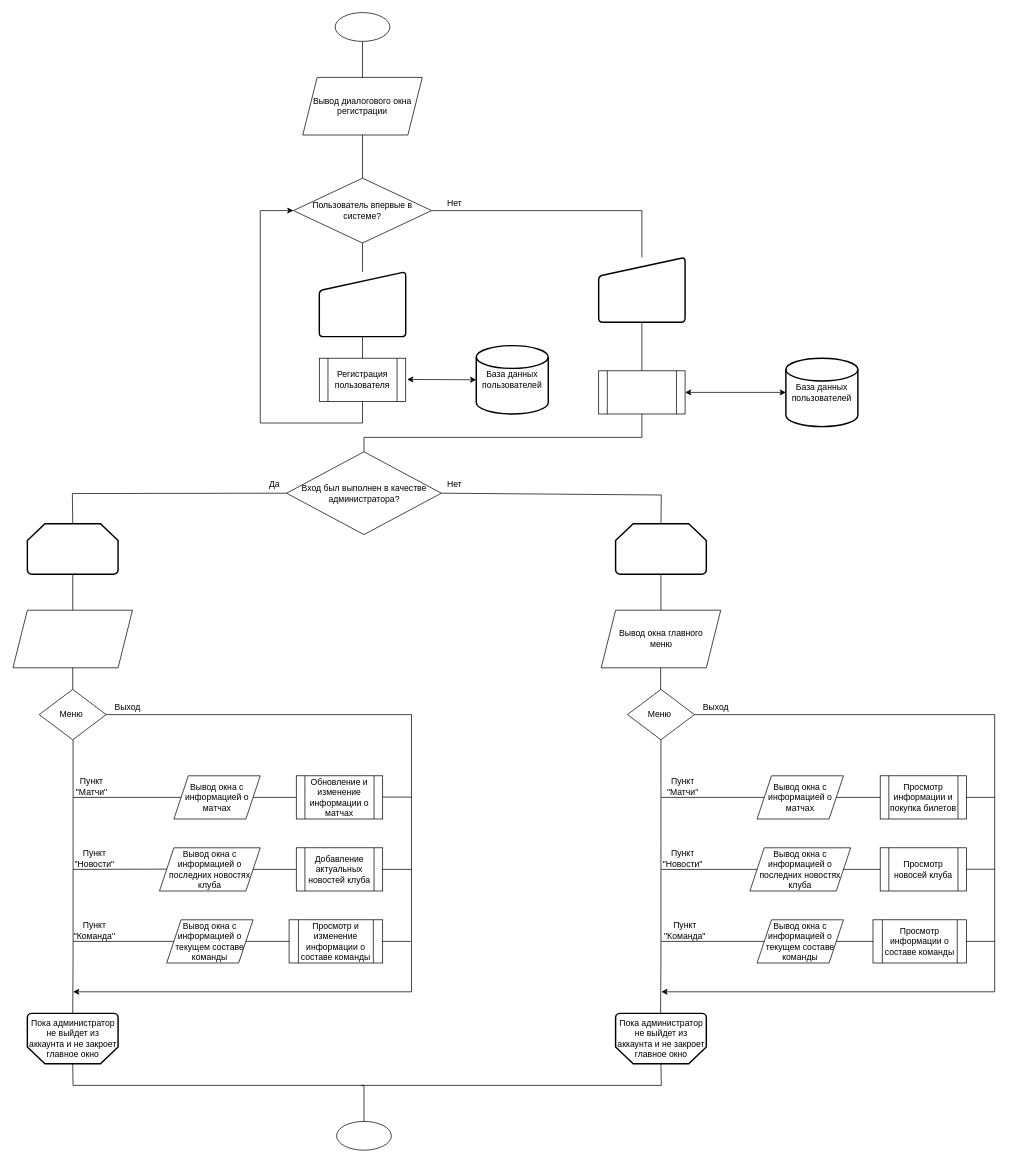
Image size: 1013x1169. Some labels were removed from this diagram. The shapes that lost their labels are listed below. From the top down, each one's box as (x1, y1, x2, y2) in pixels, then its label:
(334, 12, 390, 41): Начало
(318, 271, 406, 337): Создание логина и пароля пользователем
(598, 256, 685, 323): Ввод логина и пароля пользователем
(598, 370, 685, 414): Инициализация пользователя
(26, 523, 118, 575): Цикл использования приложения администратором
(615, 523, 707, 575): Цикл использования приложения обычным пользователем
(12, 609, 132, 668): Вывод окна главного меню администратора
(336, 1121, 391, 1150): Конец
